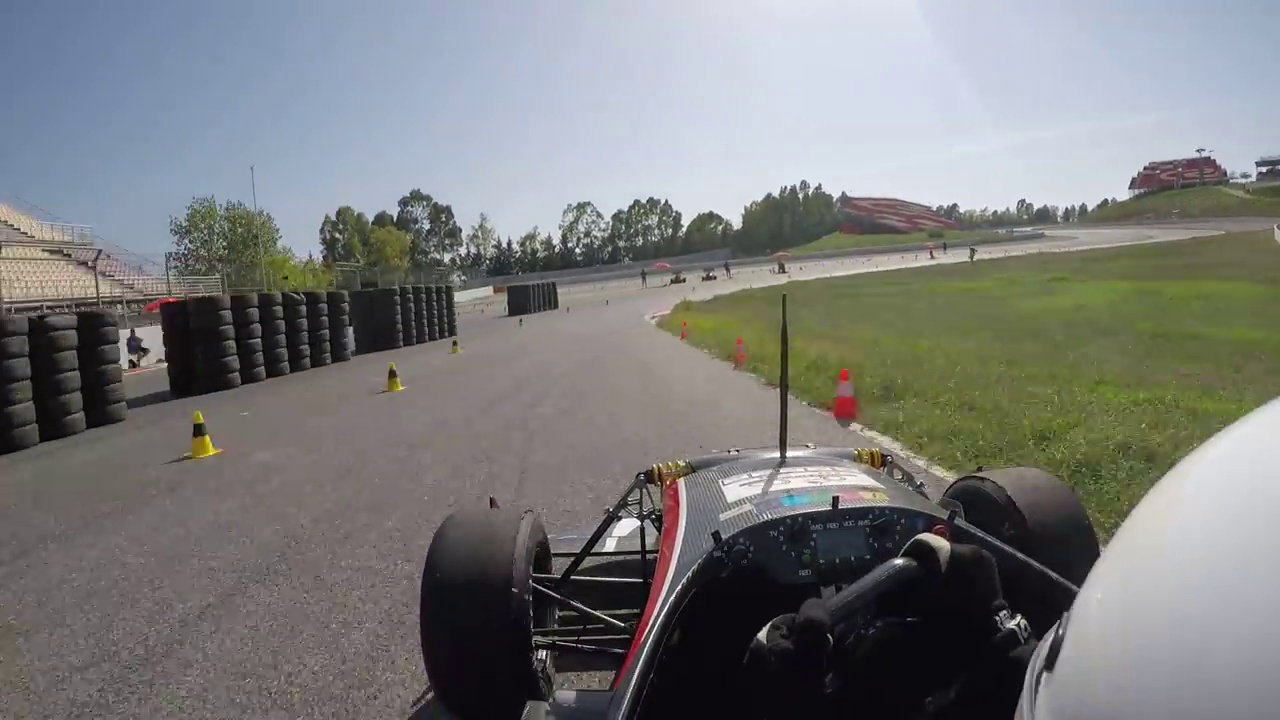Cone: (829, 366, 865, 422), (185, 411, 222, 459)
